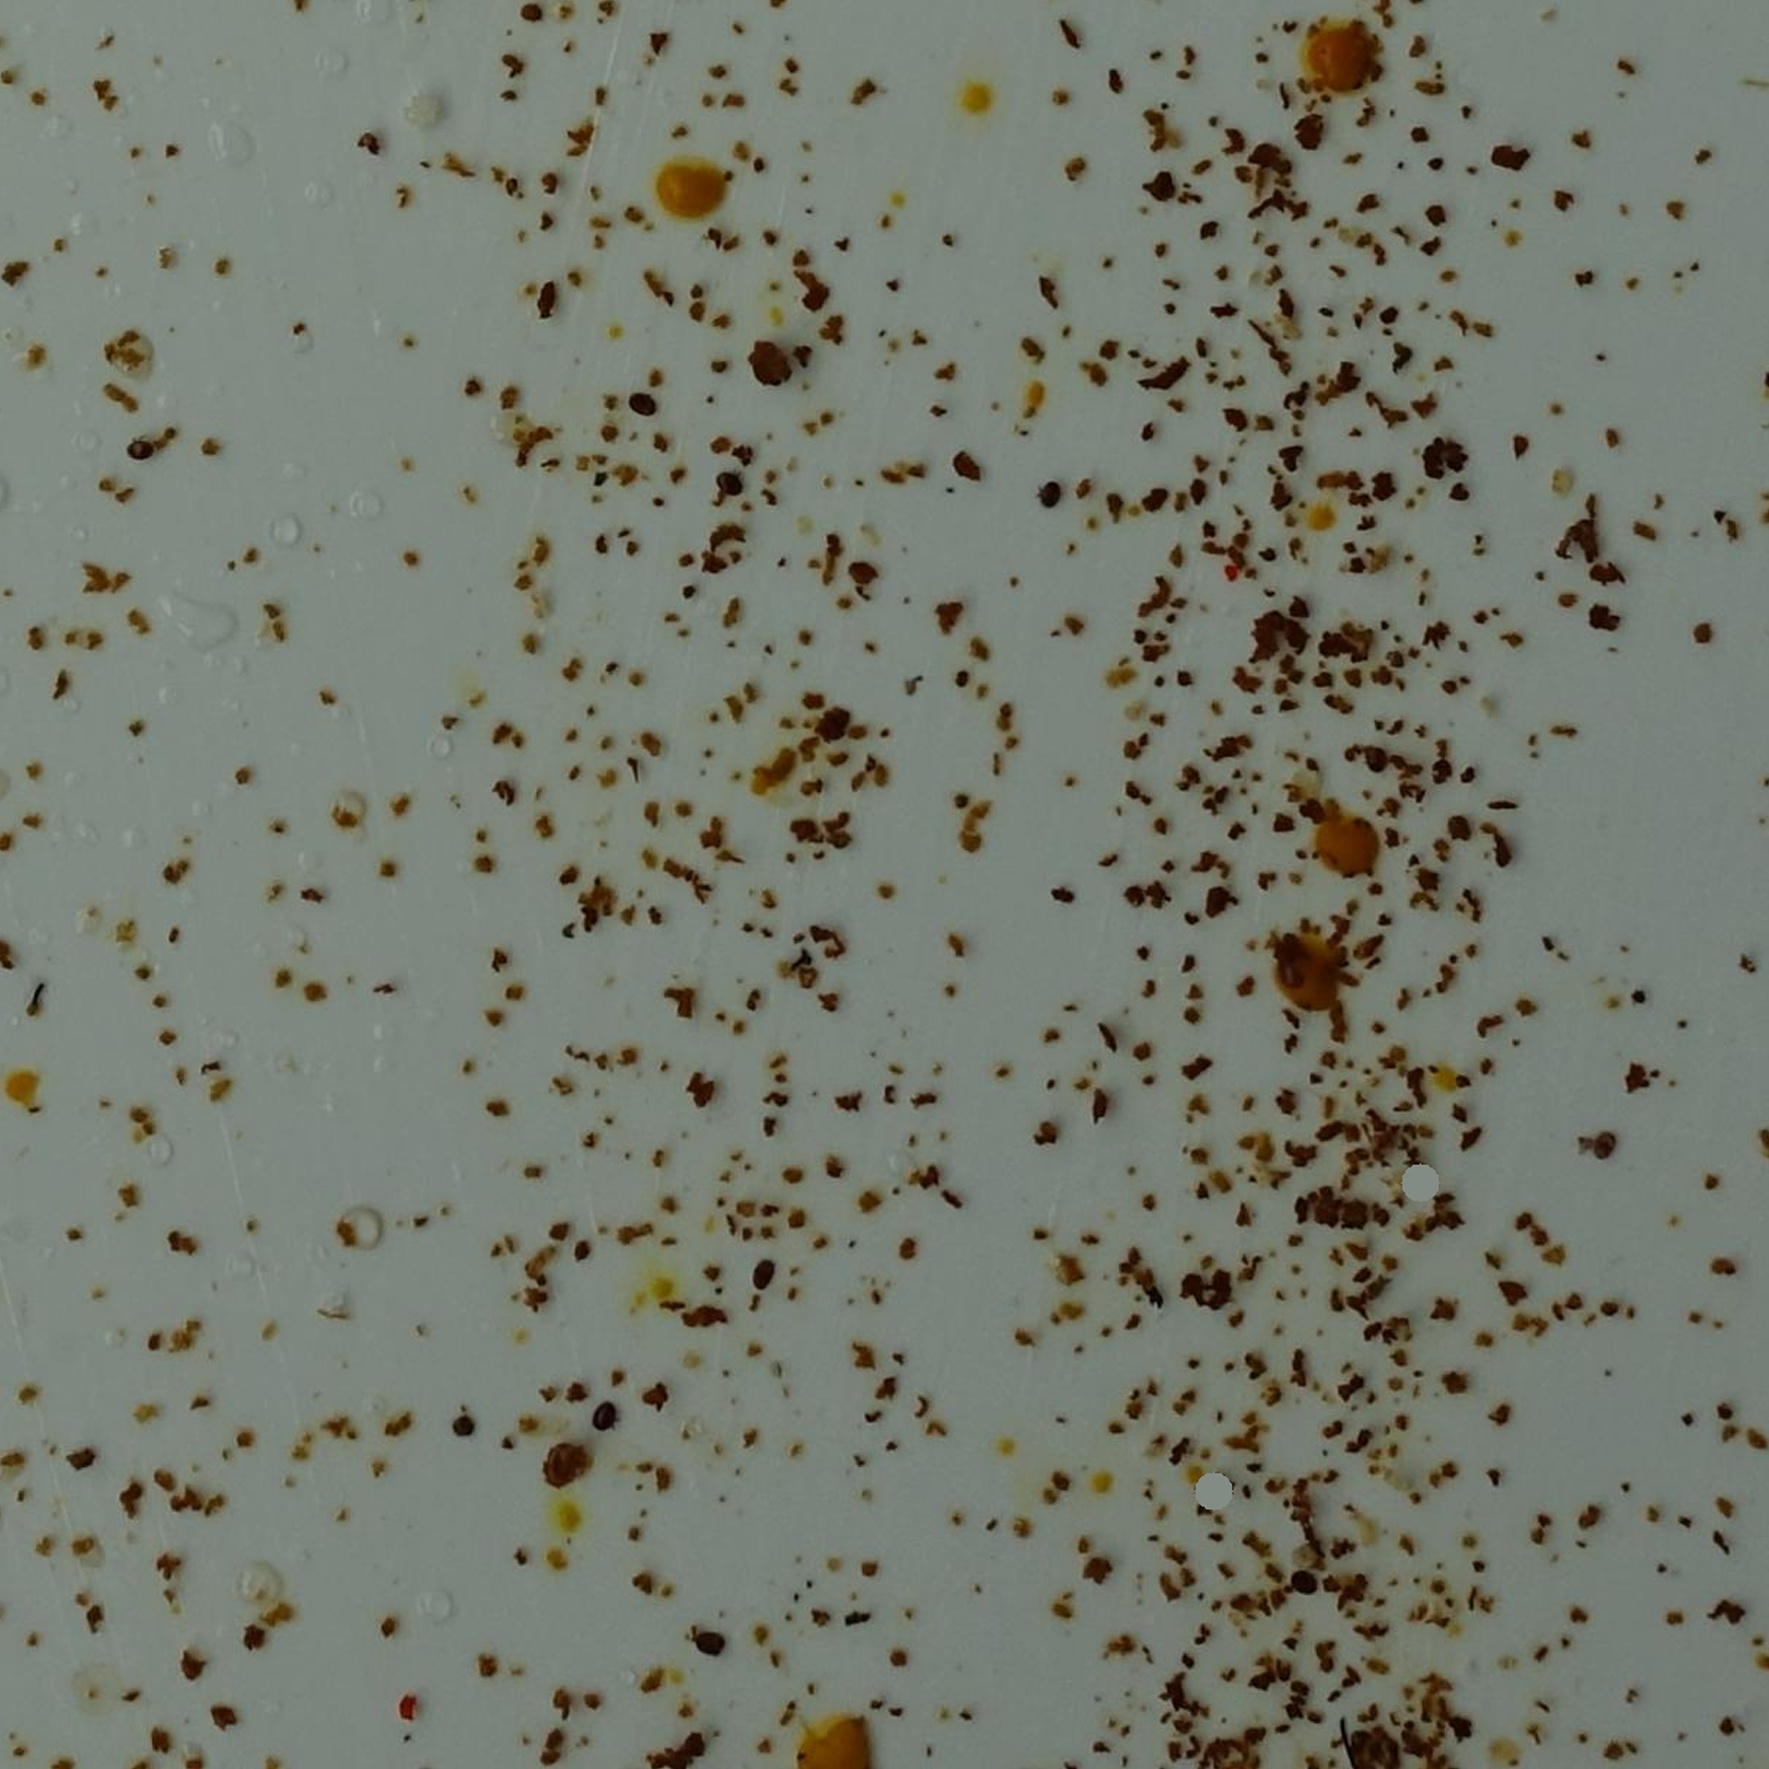Varroa: (123, 437, 151, 467), (1293, 1567, 1320, 1596), (590, 1400, 617, 1429), (1588, 1139, 1613, 1166), (1038, 483, 1064, 510), (700, 1622, 726, 1648), (1367, 750, 1392, 776), (752, 1260, 774, 1285), (627, 382, 646, 407), (714, 473, 735, 492), (637, 399, 654, 416)
